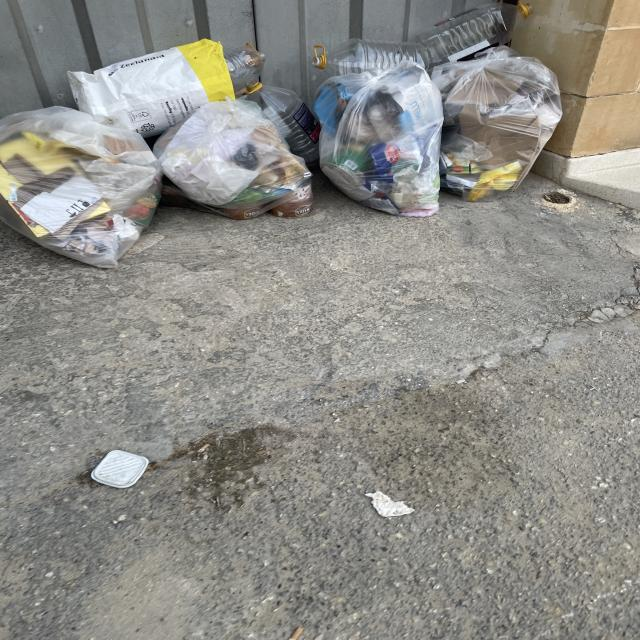grey_bag: (0, 109, 162, 270), (314, 72, 445, 216), (158, 103, 313, 220), (448, 56, 564, 205)
other_waste: (58, 37, 266, 126), (415, 0, 530, 57), (304, 38, 434, 72)
